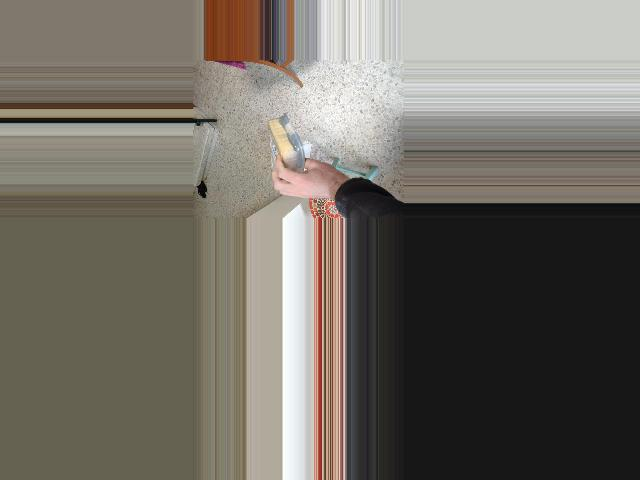cheese: (268, 109, 307, 197)
